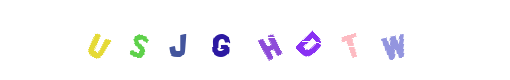D: (251, 0, 331, 80)
G: (180, 0, 260, 80)
H: (215, 0, 295, 80)
J: (142, 0, 222, 80)
S: (99, 0, 179, 80)
T: (263, 0, 343, 80)
U: (58, 0, 138, 80)
W: (312, 0, 392, 80)
